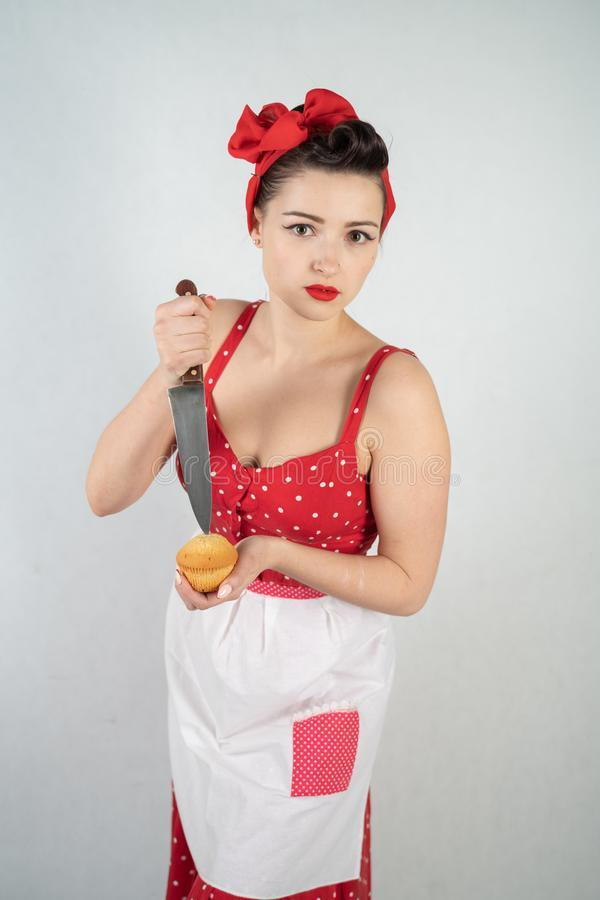criminal: (82, 86, 456, 900)
weapon: (166, 274, 221, 541)
